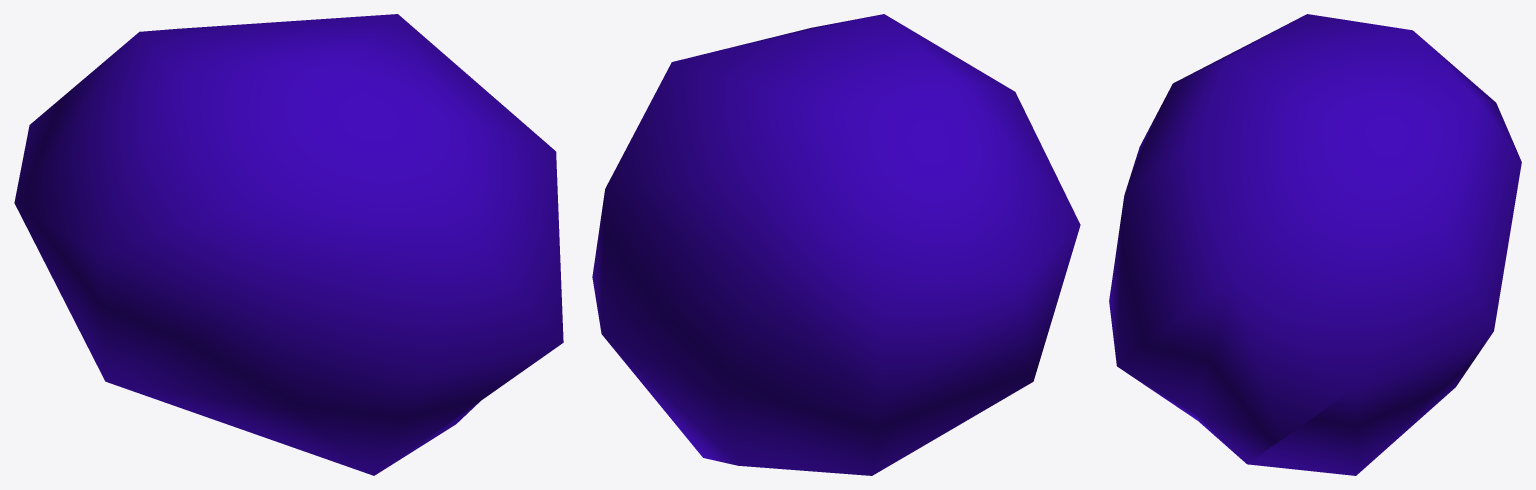
The model's file is lyso1.glb.
The picture shows the model from 3 angles, left to right: view 1: azimuth 30°, elevation 25°; view 2: azimuth 150°, elevation 25°; view 3: azimuth 270°, elevation 25°; orthographic projection. The views are drawn at different scales.
Parts seen in each view (by area): view 1: Lysosome.001; view 2: Lysosome.001; view 3: Lysosome.001.
Part boxes in pixels (box(x1,y1,x2,y2)): Lysosome.001: box(14, 14, 563, 475); Lysosome.001: box(592, 14, 1080, 475); Lysosome.001: box(1109, 14, 1521, 475).
Size of the model in its own units: 2.26 by 1.86 by 1.88.
